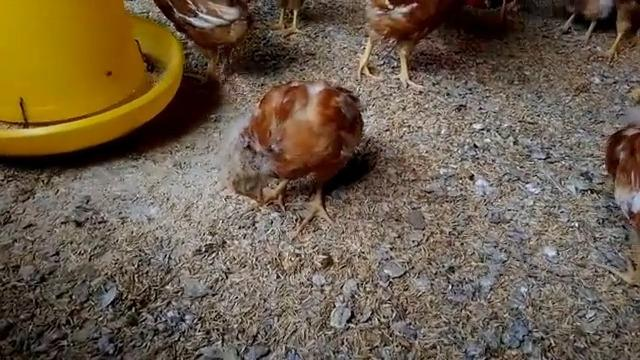AbNormal: (238, 73, 378, 224)
